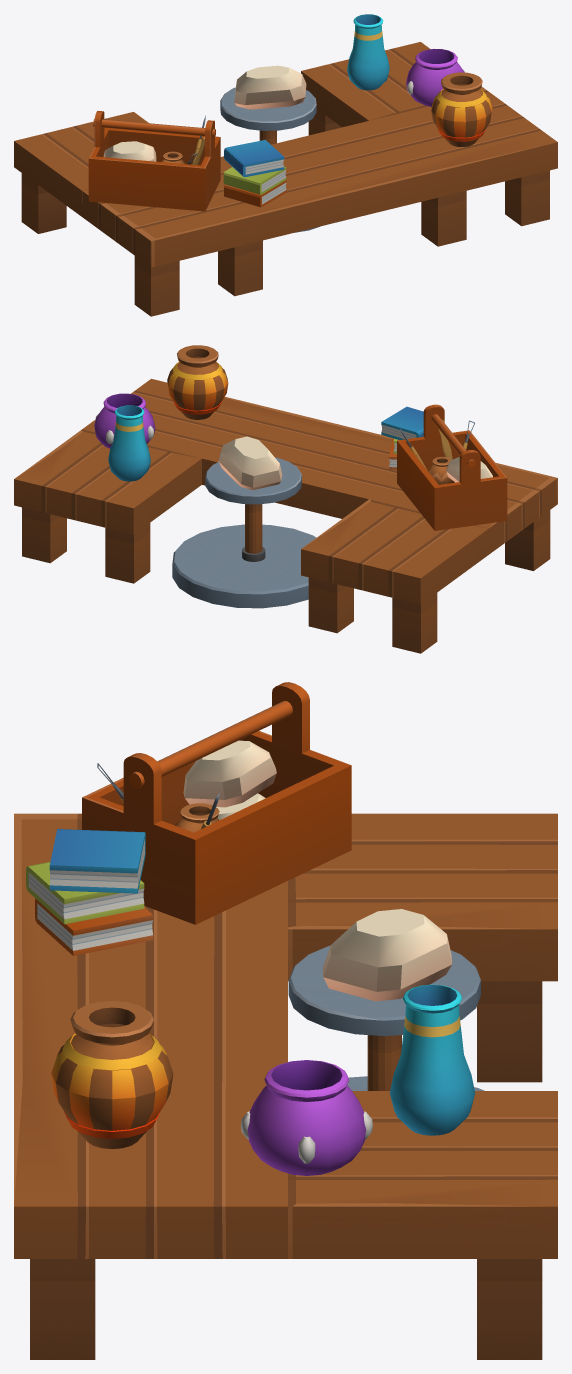
The model's file is FilledPotteryWheel.FBX.
3 views of the same model, one above another, from view 1: azimuth 30°, elevation 25°; view 2: azimuth 150°, elevation 25°; view 3: azimuth 270°, elevation 25° (orthographic). The views are drawn at different scales.
Parts seen in each view (by area): view 1: PotteryWheelFilled; view 2: PotteryWheelFilled; view 3: PotteryWheelFilled.
Boxes of the visible parts, left/top/right/bottom form: PotteryWheelFilled: left=14, top=14, right=557, bottom=316; PotteryWheelFilled: left=14, top=345, right=557, bottom=653; PotteryWheelFilled: left=14, top=682, right=557, bottom=1359.
Size of the model in its own units: 2.89 by 1.02 by 1.67.
